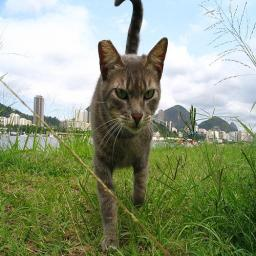catnose: (131, 112, 144, 125)
